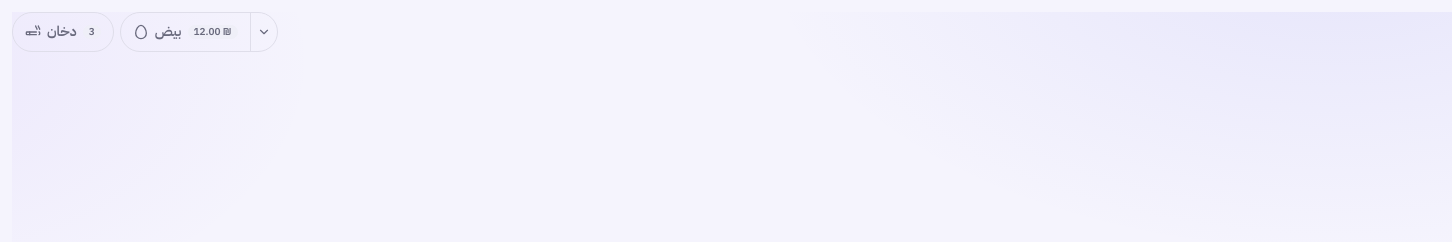
Test: opening a card › opening one card closes the other
What coordinates should you click on to do the following:
click the button with test id "quick-card-smoke"
I would click on:
 (63, 32)
Its box is [13,13,113,51].
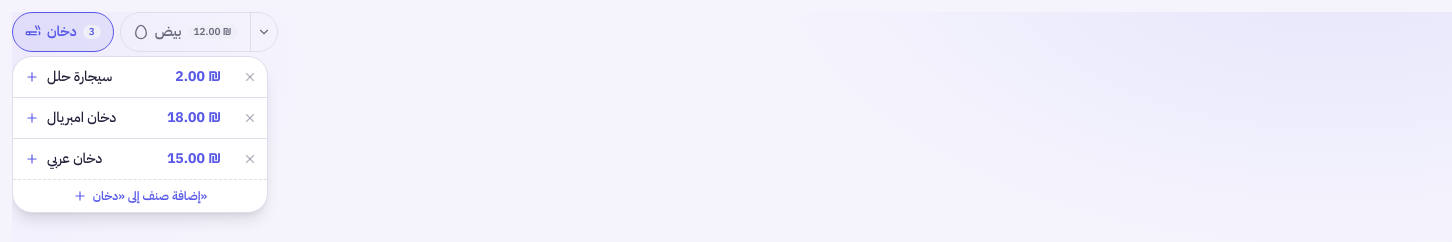
Check: the text "سيجارة حلل" is shown, box [47,66,112,87]
What coordinates should you click on to do the following:
click the button with test id "quick-card-eggs-menu"
I would click on:
 (263, 32)
Its box is [250,13,277,51].
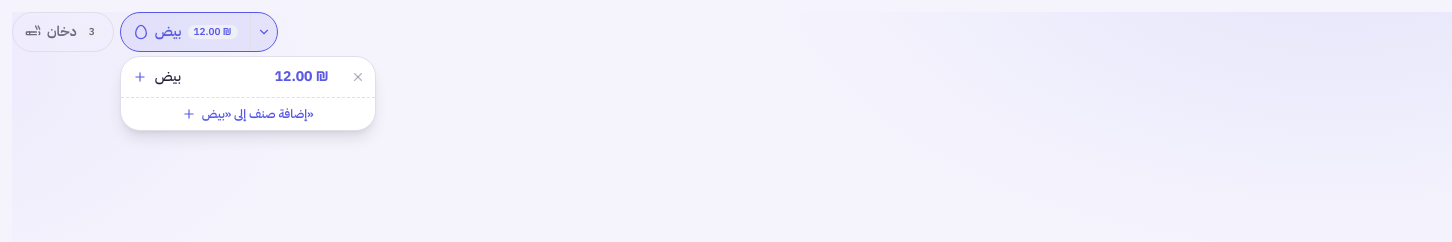
Check: the menu item "سيجارة حلل" is gone
Check: the 2nd text "بيض" is shown, box [155,66,181,87]
